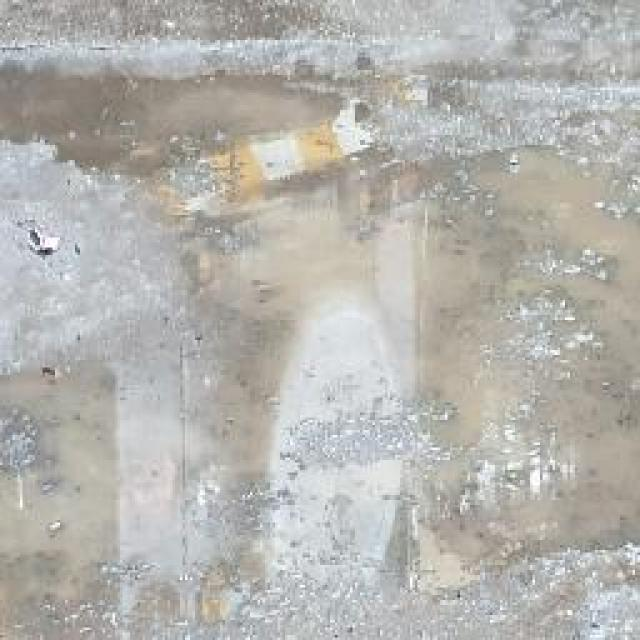waterlogging: (51, 40, 624, 591)
